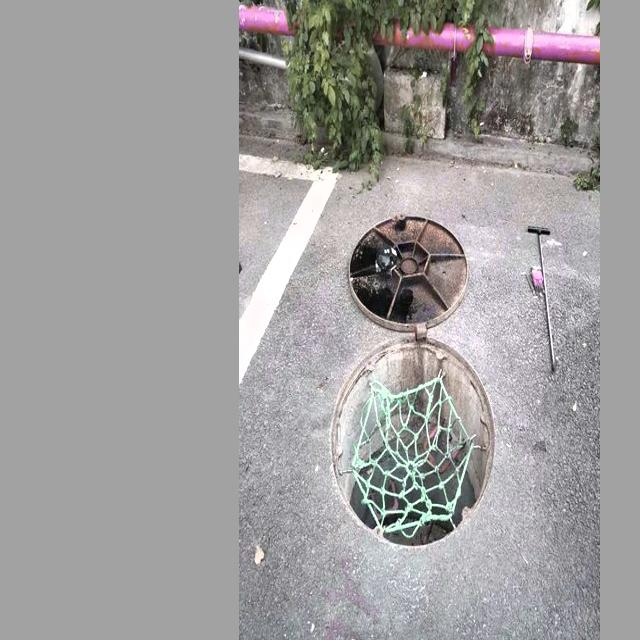uncovered: (313, 195, 513, 556)
